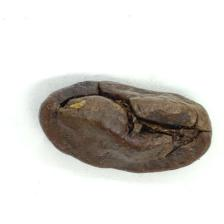NG: (58, 82, 204, 157)
